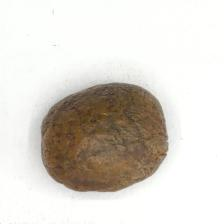NG: (95, 105, 168, 165)
